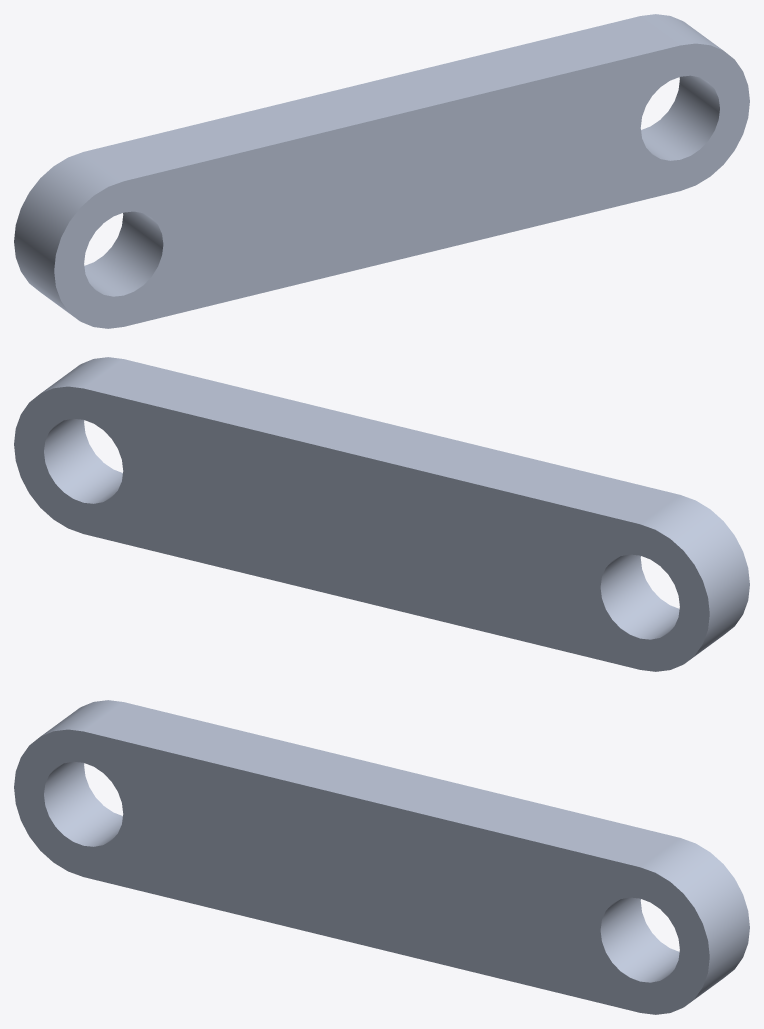
3 views of the same model, one above another, from view 1: azimuth 30°, elevation 25°; view 2: azimuth 150°, elevation 25°; view 3: azimuth 330°, elevation 25° (orthographic).
Visible parts, largest first — view 1: Arm_Link; view 2: Arm_Link; view 3: Arm_Link.
Part boxes in pixels (x1,y1,x2,y2): Arm_Link: (14,14,749,328); Arm_Link: (14,357,749,671); Arm_Link: (14,700,749,1014).
Bounding box in the file's own units: 0.05 × 0.01 × 0.005.
